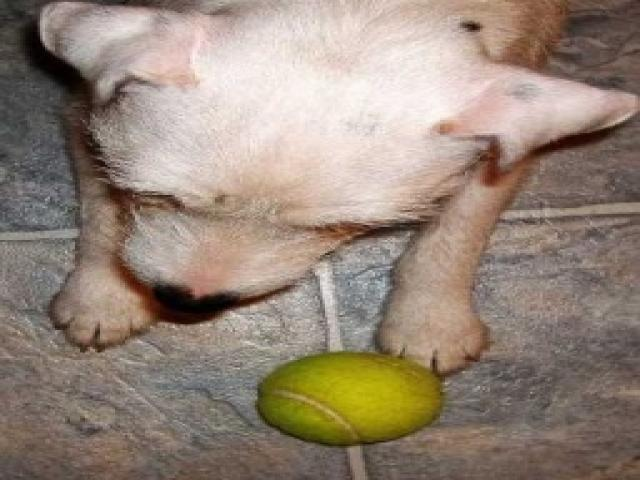tennis-ball: (253, 347, 443, 448)
